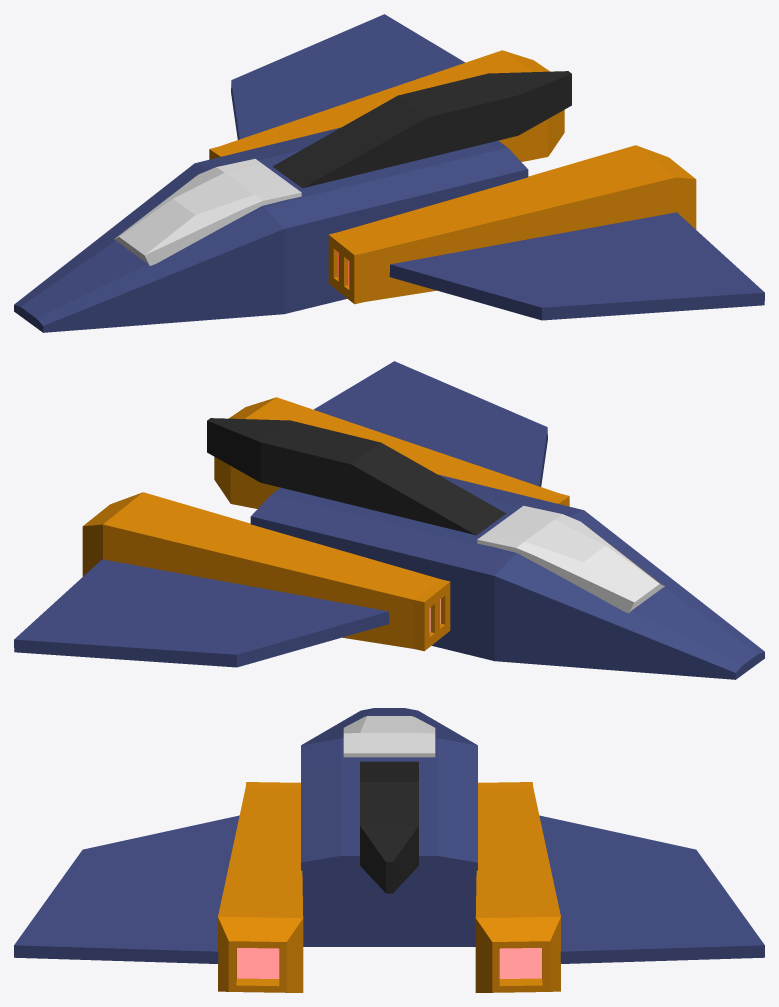
Rendered from ship.glb.
3 renders of one model, top to bottom at view 1: azimuth 30°, elevation 25°; view 2: azimuth 150°, elevation 25°; view 3: azimuth 270°, elevation 25°, orthographic.
Parts seen in each view (by area): view 1: Cube, Cube.004, Cube.001, Cube.003, Cube.002; view 2: Cube, Cube.004, Cube.001, Cube.003, Cube.002; view 3: Cube.004, Cube.001, Cube, Cube.003, Cube.002, Cube.005.
Part boxes in pixels (bbox=[...]): Cube: bbox=[14, 127, 528, 332]; Cube.004: bbox=[231, 14, 764, 320]; Cube.001: bbox=[209, 50, 696, 304]; Cube.003: bbox=[272, 71, 571, 188]; Cube.002: bbox=[114, 158, 301, 265]; Cube: bbox=[250, 474, 764, 679]; Cube.004: bbox=[14, 361, 547, 667]; Cube.001: bbox=[82, 397, 569, 651]; Cube.003: bbox=[207, 418, 506, 535]; Cube.002: bbox=[477, 505, 664, 613]; Cube.004: bbox=[14, 815, 764, 963]; Cube.001: bbox=[218, 782, 560, 992]; Cube: bbox=[301, 708, 477, 946]; Cube.003: bbox=[360, 761, 418, 893]; Cube.002: bbox=[343, 716, 435, 757]; Cube.005: bbox=[237, 948, 541, 978].
Size of the model in its own units: 7.57 by 1.63 by 8.48.
